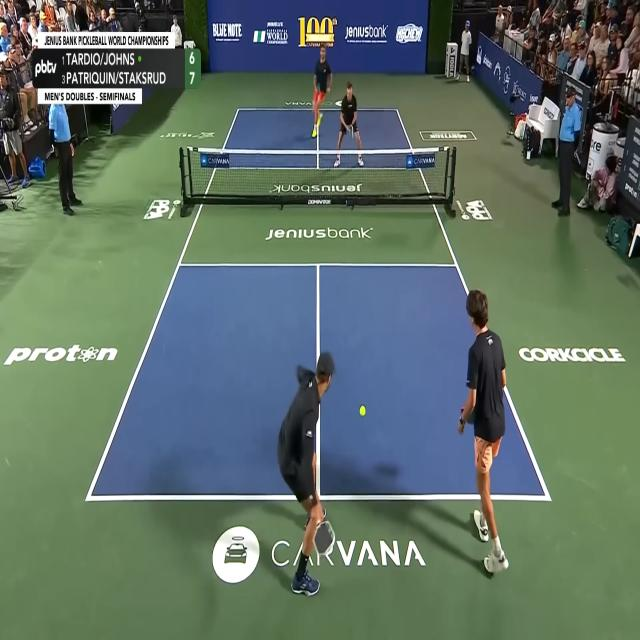ball: (359, 404, 366, 418)
